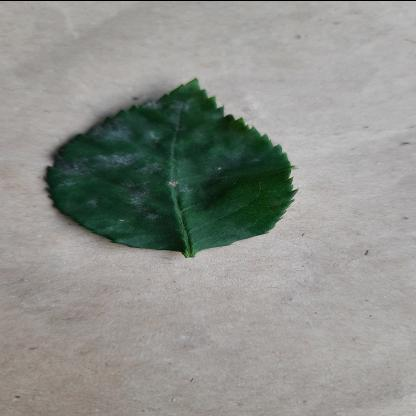powdery-mildew: (40, 76, 302, 250)
